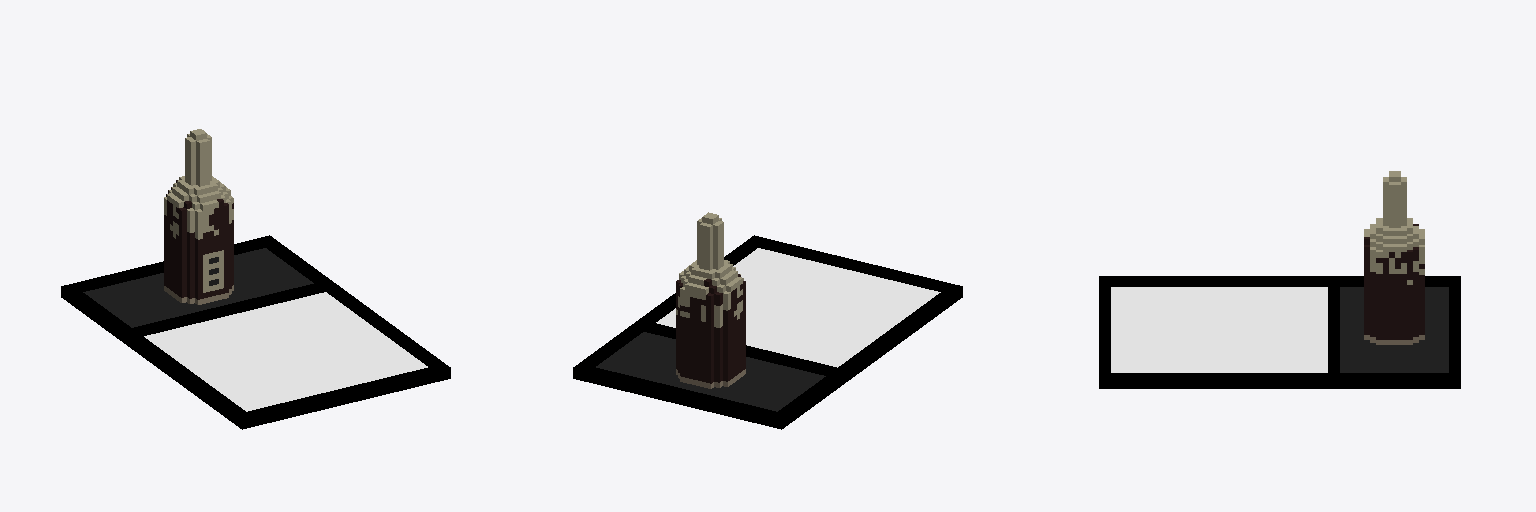
3 renders of one model, left to right at view 1: azimuth 30°, elevation 25°; view 2: azimuth 150°, elevation 25°; view 3: azimuth 270°, elevation 25°, orthographic.
Parts seen in each view (by area): view 1: object 1; view 2: object 1; view 3: object 1.
Boxes of the visible parts, x1=… form: object 1: x1=61, y1=129, x2=450, y2=429; object 1: x1=573, y1=212, x2=962, y2=429; object 1: x1=1099, y1=171, x2=1460, y2=388.
Bounding box in the file's own units: 4 × 3 × 6.
Materials: 1 (1 with a texture image).